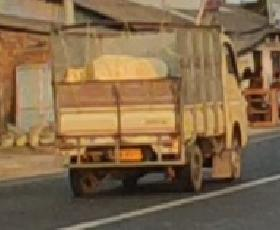Truck: (47, 16, 248, 195)
